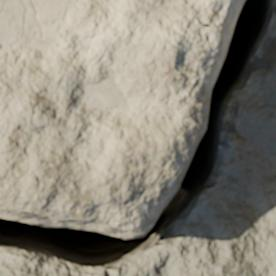brick: (0, 0, 243, 237)
crack: (0, 0, 275, 275)
